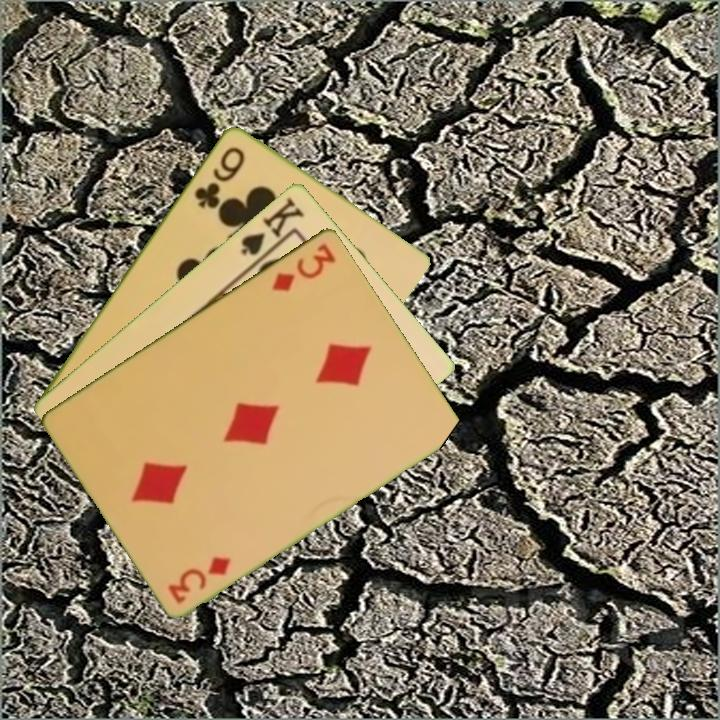3d: (268, 239, 339, 294), (164, 552, 235, 606)
9c: (190, 142, 248, 211)
Ks: (237, 193, 307, 267)
